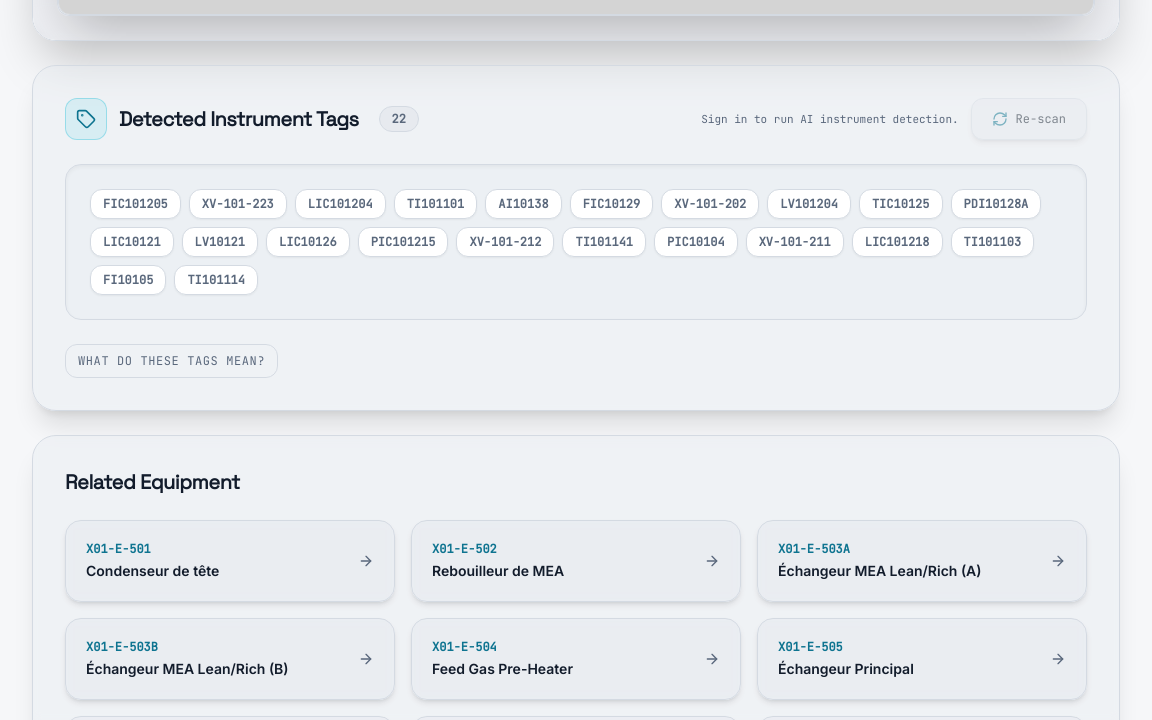
Test: Instrument decoding on the DCS screens › explains the tags of a panel without leaving the screen
This screenshot has width=1152, height=720.
(page scrolled)
Step 1. Click the button "What do these tags mean?" → coordinates (172, 361), box [65,344,278,378]
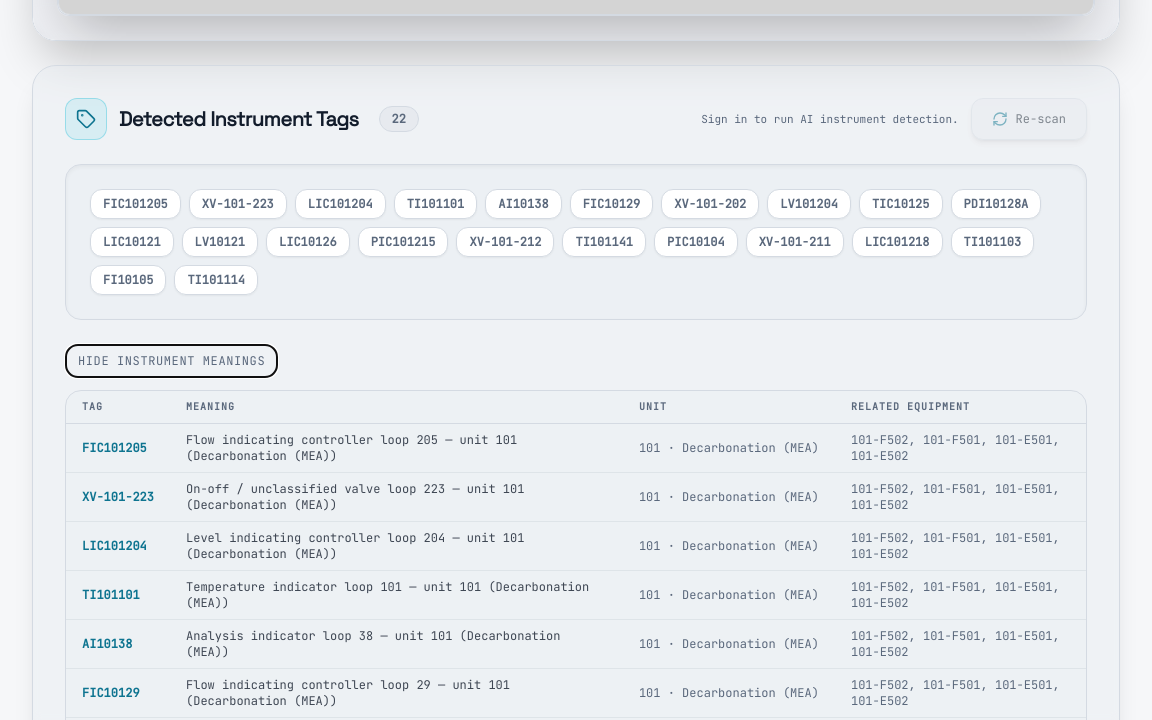
Expected: the column heading "Meaning" is shown, [170,391,623,423]
Expected: the link "FIC101205" is shown, [82,440,147,456]
